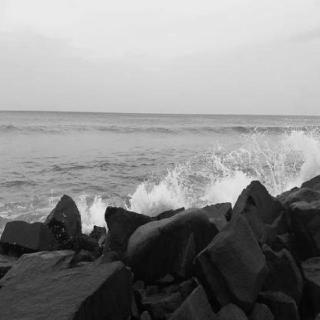other: (198, 131, 314, 187)
